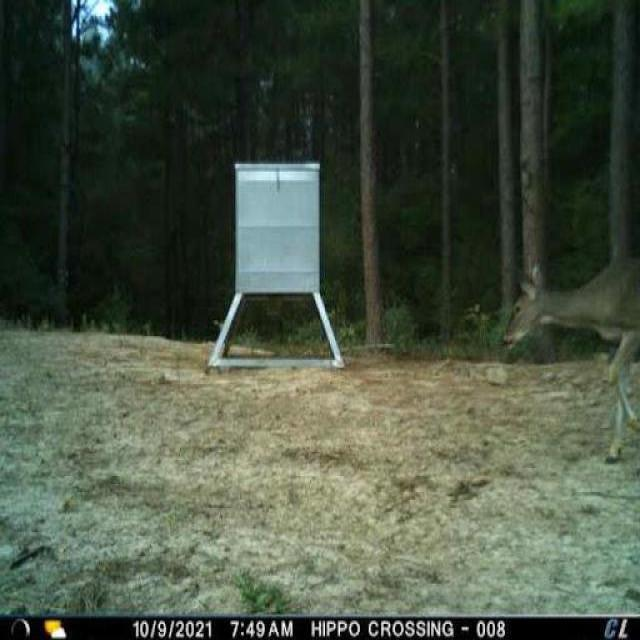deer: (504, 231, 640, 473)
